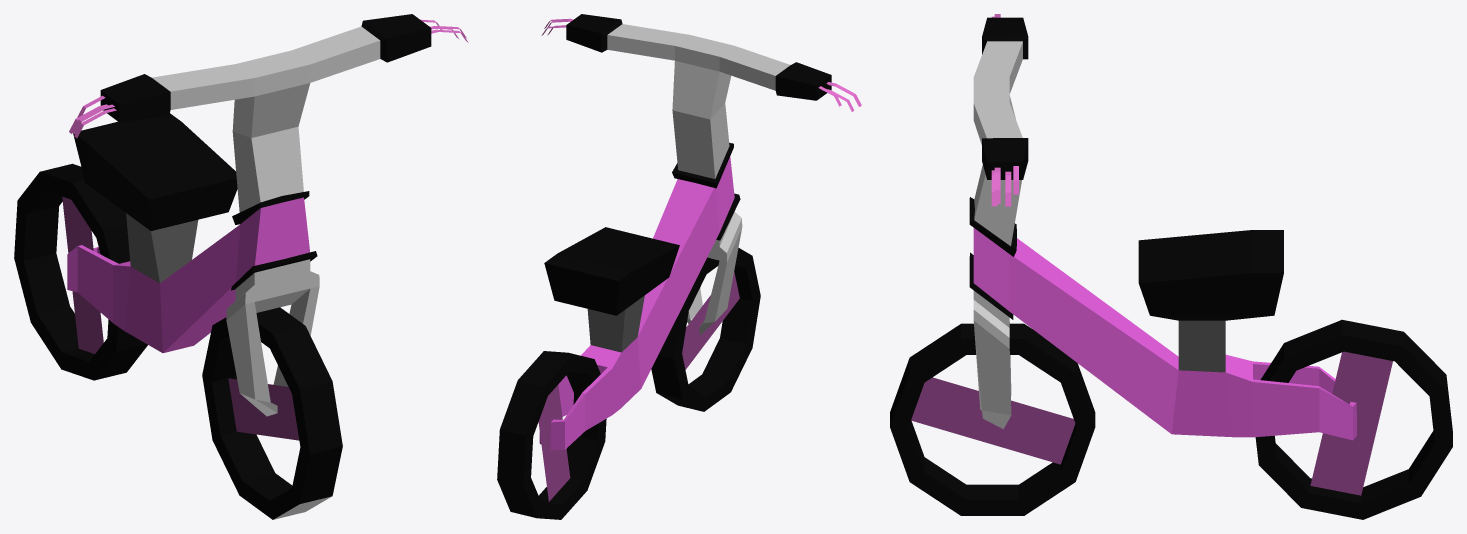
The model's file is bici.glb.
The picture shows the model from 3 angles, left to right: view 1: azimuth 30°, elevation 25°; view 2: azimuth 150°, elevation 25°; view 3: azimuth 270°, elevation 25°; orthographic projection. The views are drawn at different scales.
Parts seen in each view (by area): view 1: Plane.003; view 2: Plane.003; view 3: Plane.003.
Boxes of the visible parts, x1,y1,x2,y2 form: Plane.003: (14,14,468,519); Plane.003: (497,14,861,519); Plane.003: (890,14,1452,519).
Bounding box in the file's own units: 0.3154 × 0.3433 × 0.4121.
